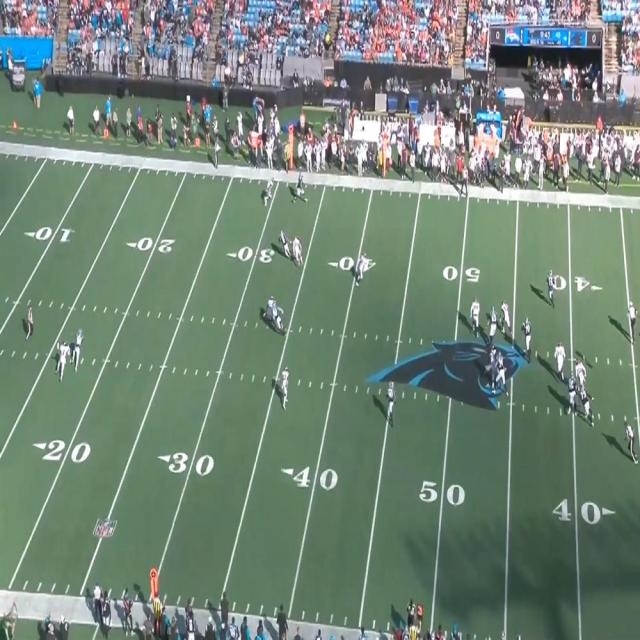db: (281, 367, 291, 408), (58, 342, 67, 380), (266, 294, 275, 327), (262, 179, 272, 204)
lb: (358, 251, 366, 286)
qb: (547, 270, 556, 307)
skill: (386, 385, 396, 425), (296, 171, 309, 201), (271, 304, 282, 333), (76, 330, 84, 363), (279, 230, 287, 256)
